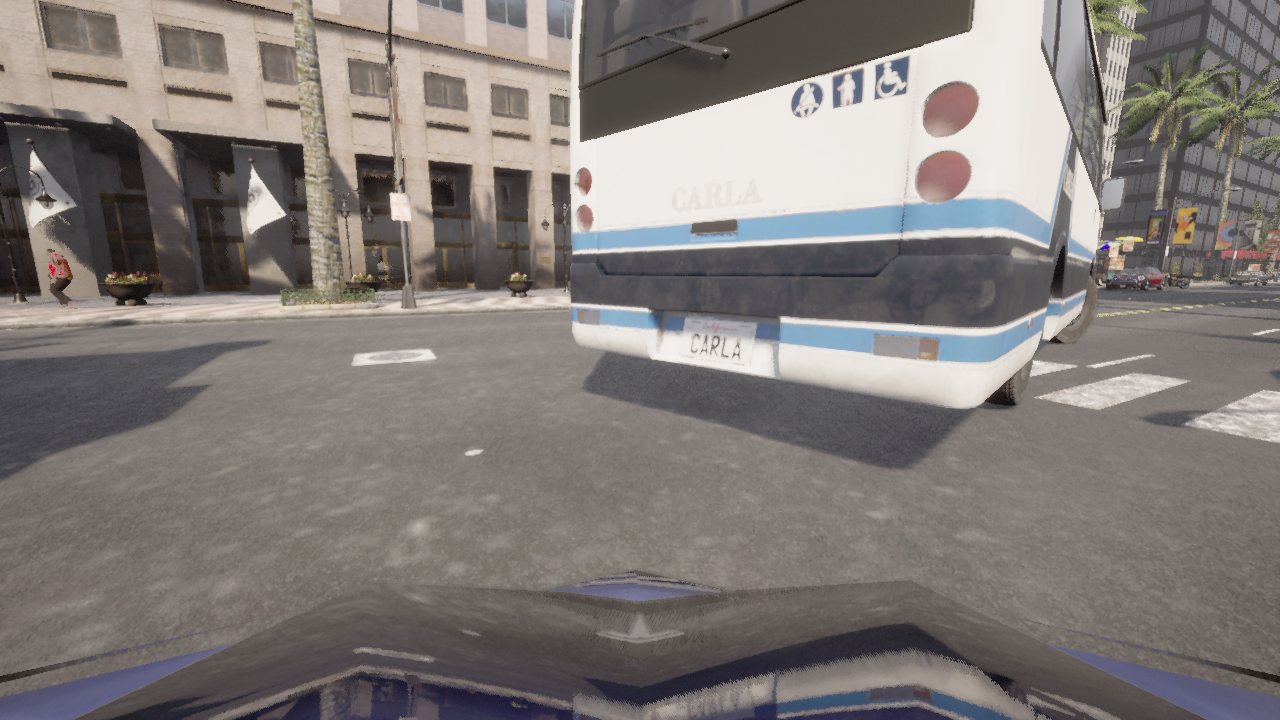cyclist: (570, 0, 1125, 408), (0, 569, 1279, 719), (1106, 267, 1164, 290), (1229, 270, 1267, 285), (1164, 273, 1189, 288)
pedestrian: (44, 248, 75, 309)
